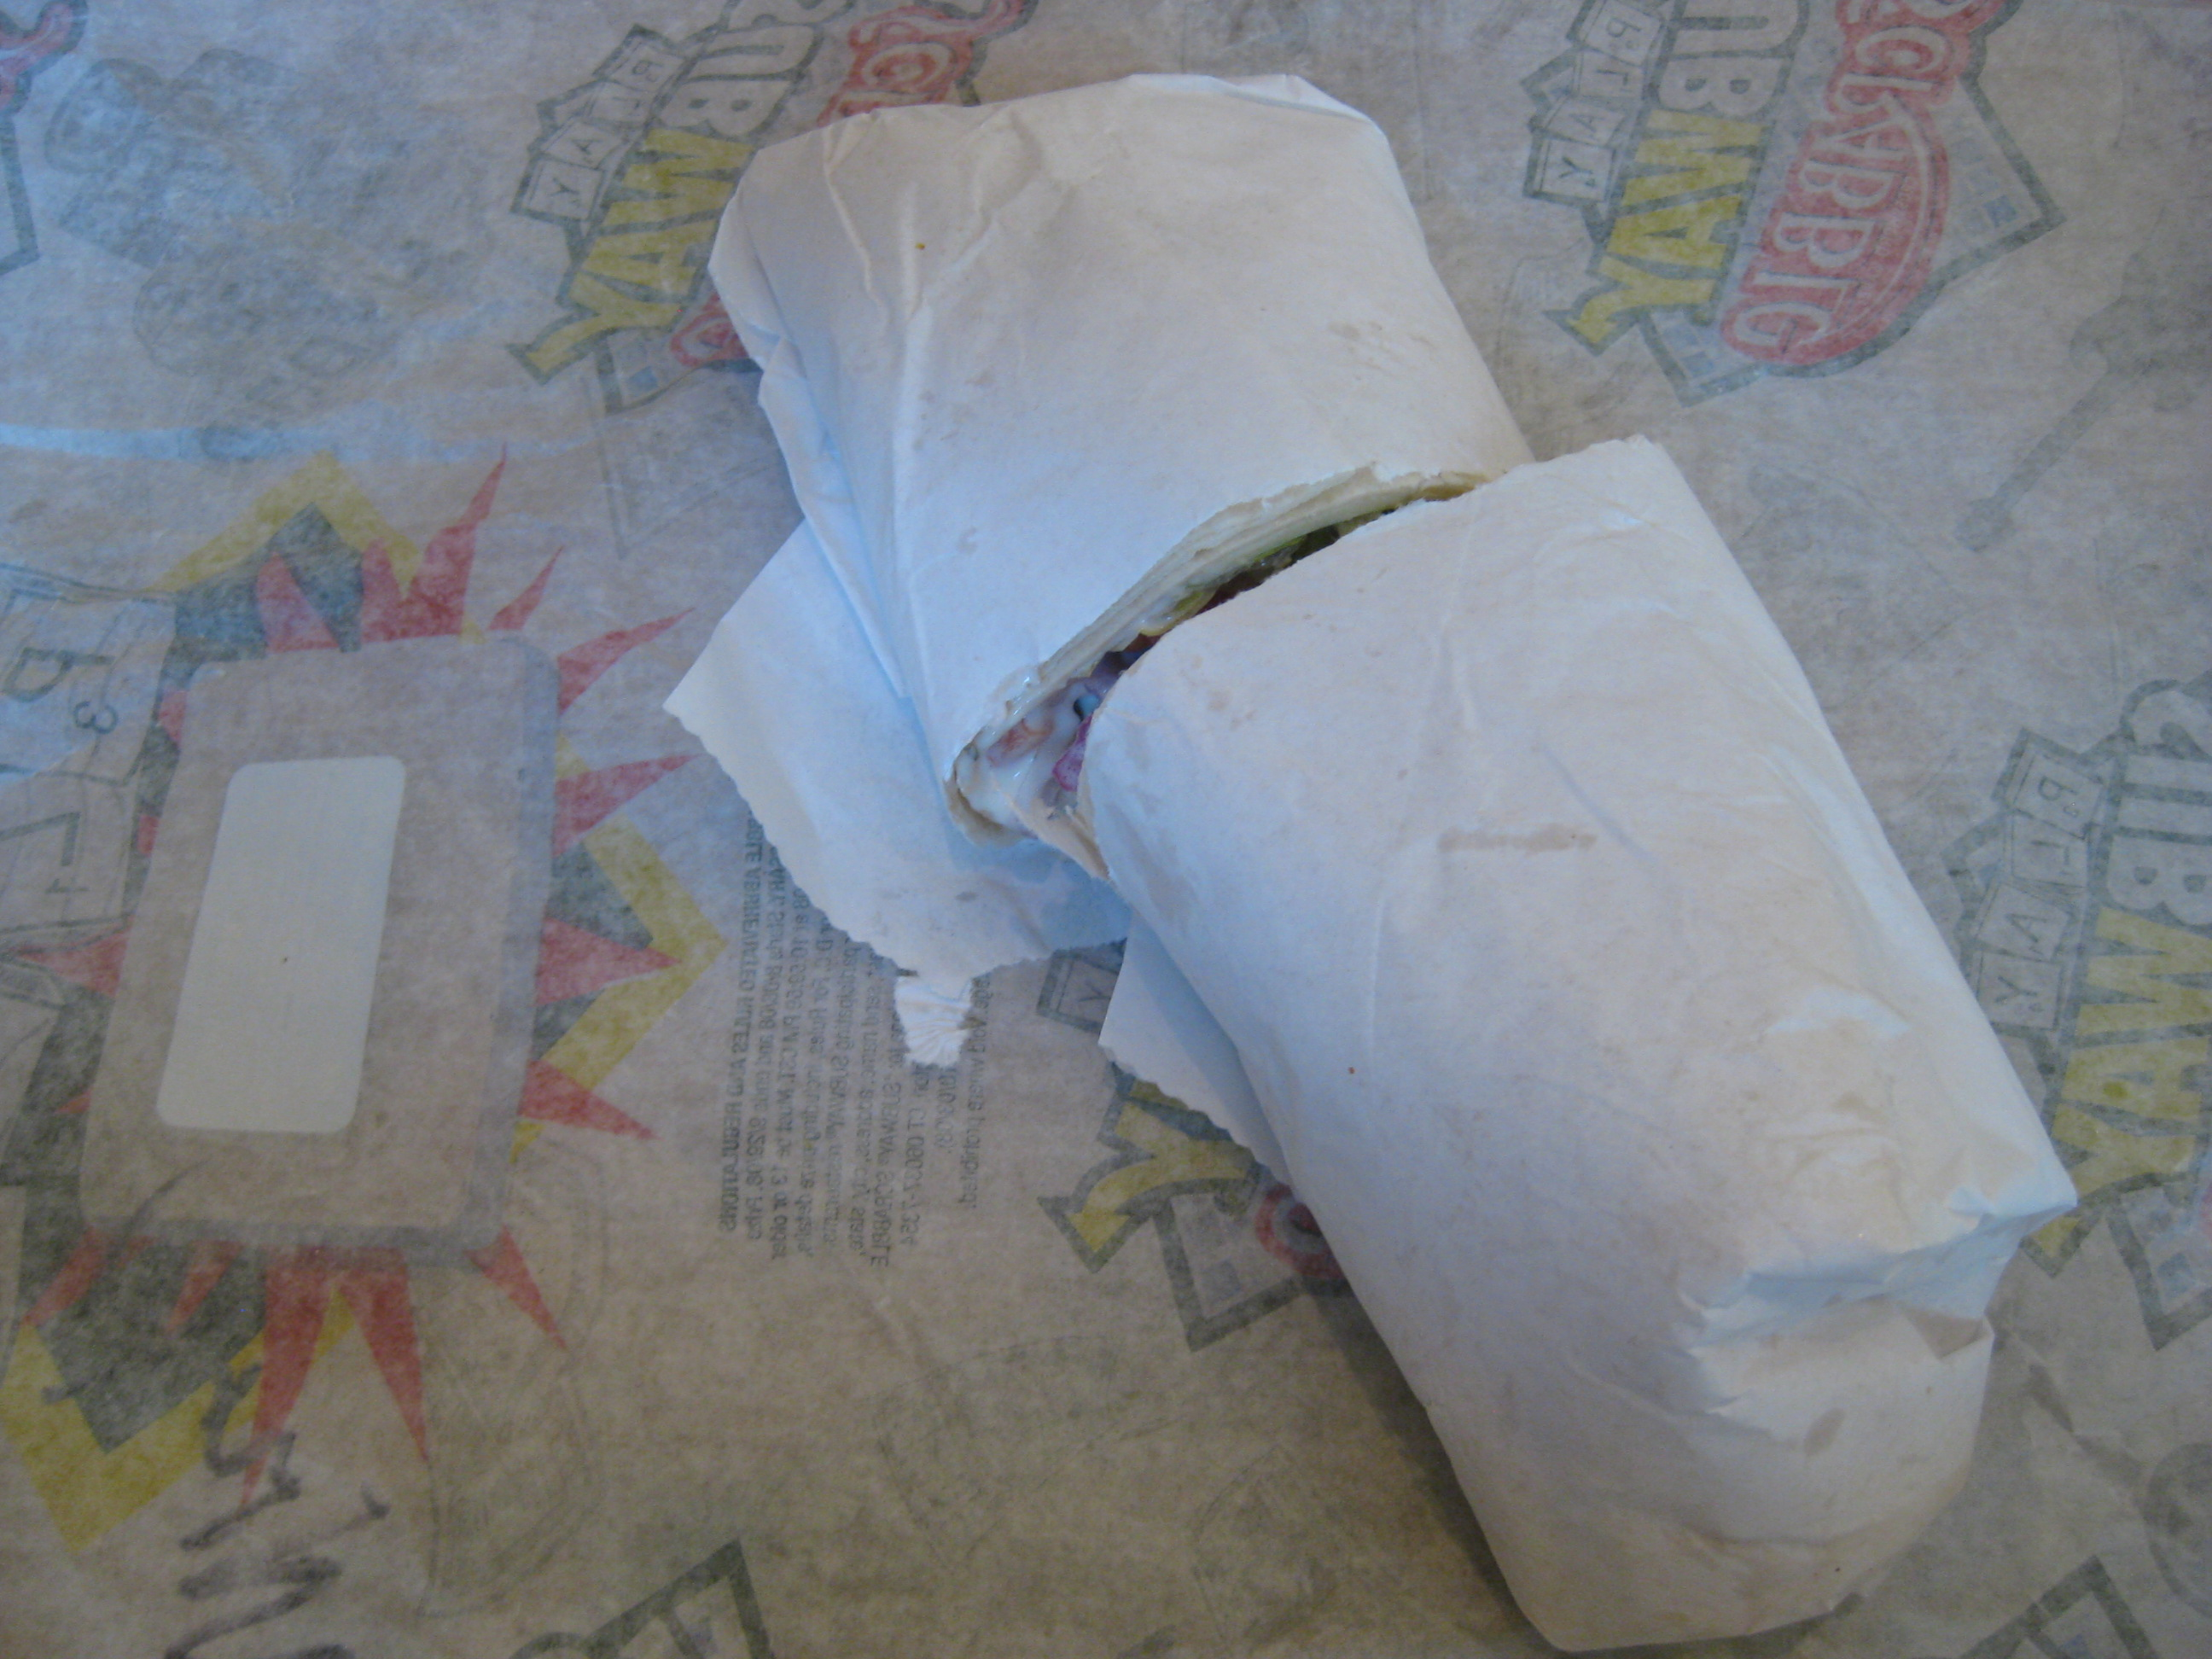burrito: (692, 85, 2069, 1499)
